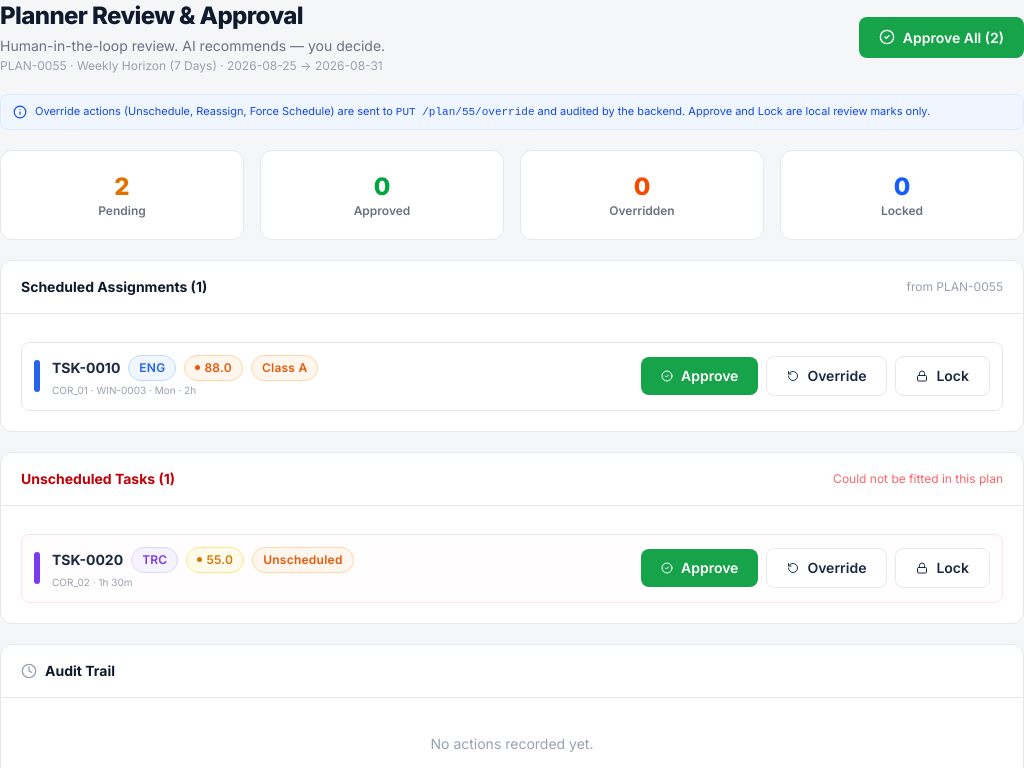
Test: ReviewPage — Validation failure › enables submit only when reason reaches minimum length
Expected: the text "TSK-0010" is shown, 52,358 -> 120,378
Click the button "Override" in the row of "Class A": (827, 376) 766,356 -> 887,396
(page scrolled)
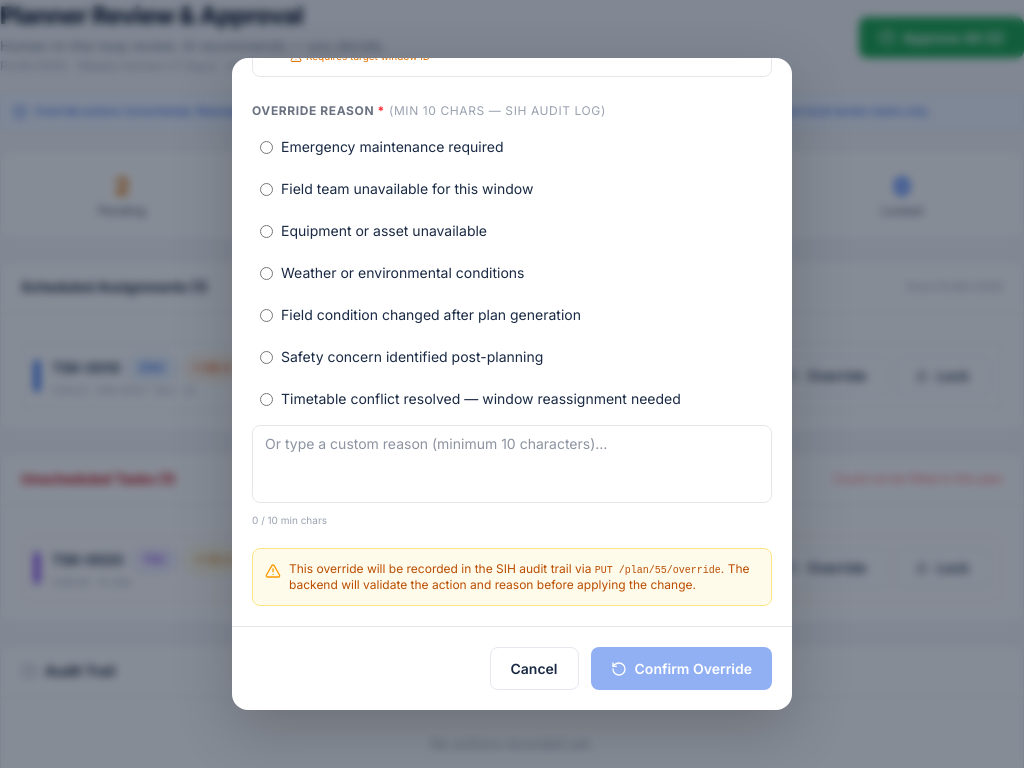
Now the element with id "override-modal" is shown, box 232,58 -> 792,710
Now the button "Confirm Override" is disabled, box 590,647 -> 772,690
In the text box with placeholder "Or type a custom reason (minimum 10 characters)…": (512, 464) 252,425 -> 772,503, type "Emergency maintenance required — field team cannot access window."
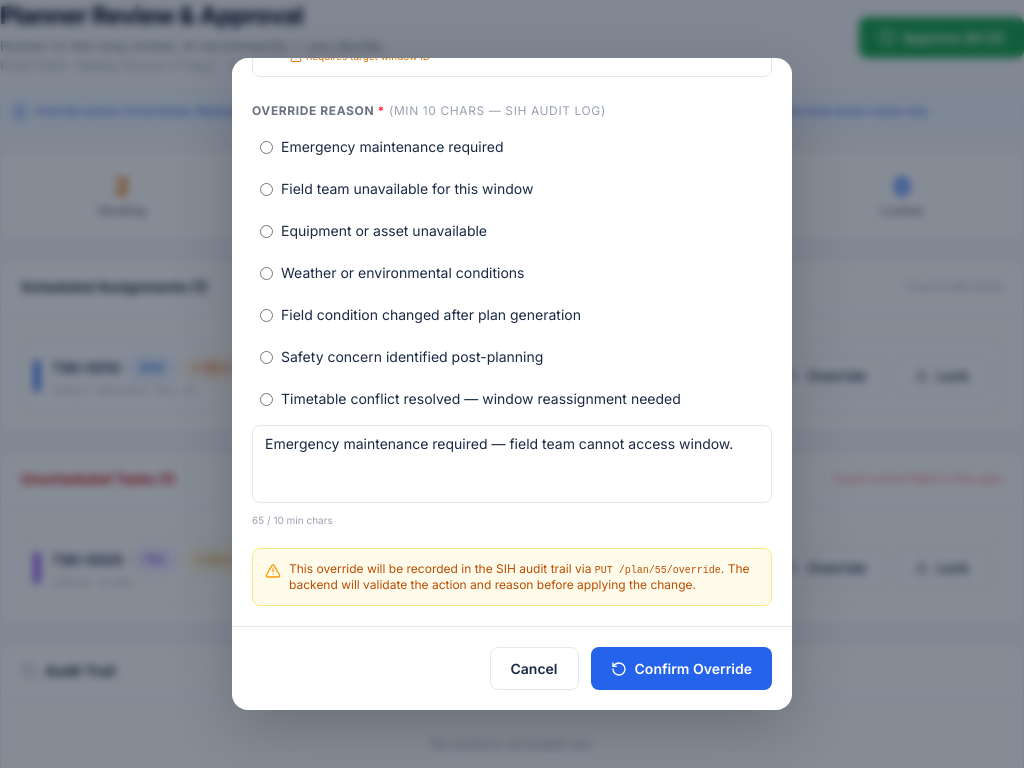
Now the button "Confirm Override" is enabled, box 590,647 -> 772,690
